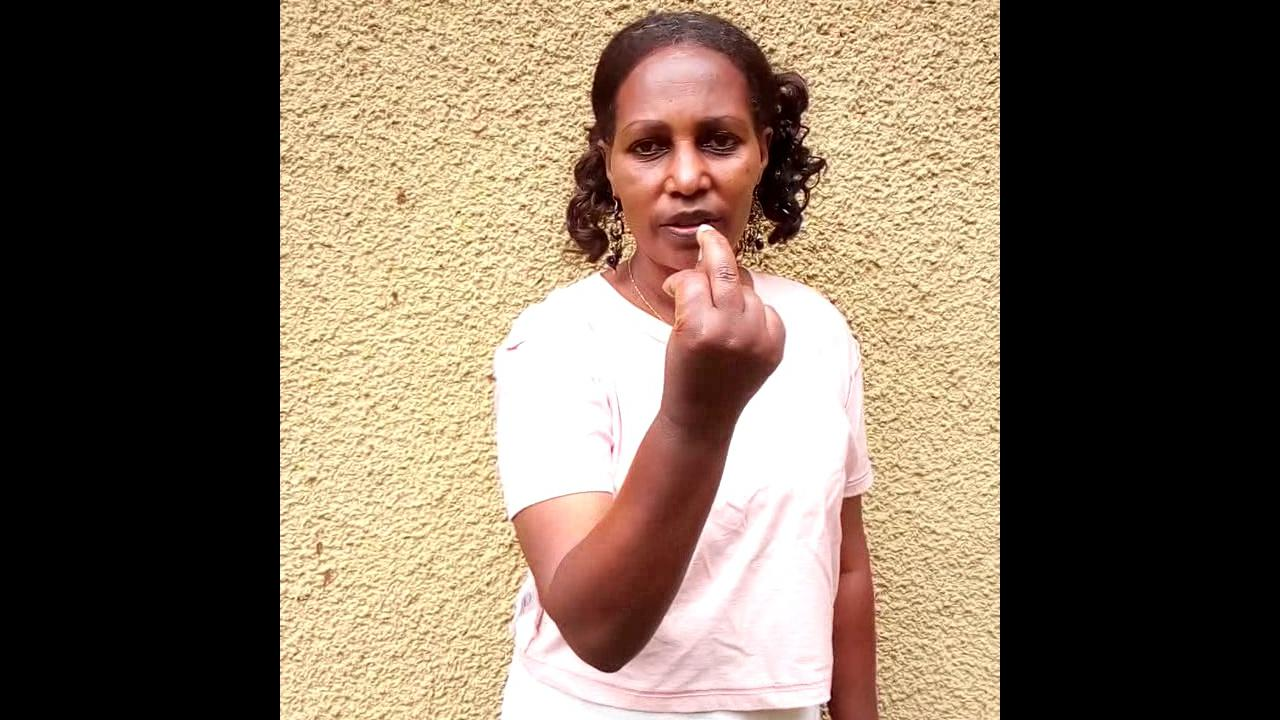CHE: (663, 227, 787, 505)
